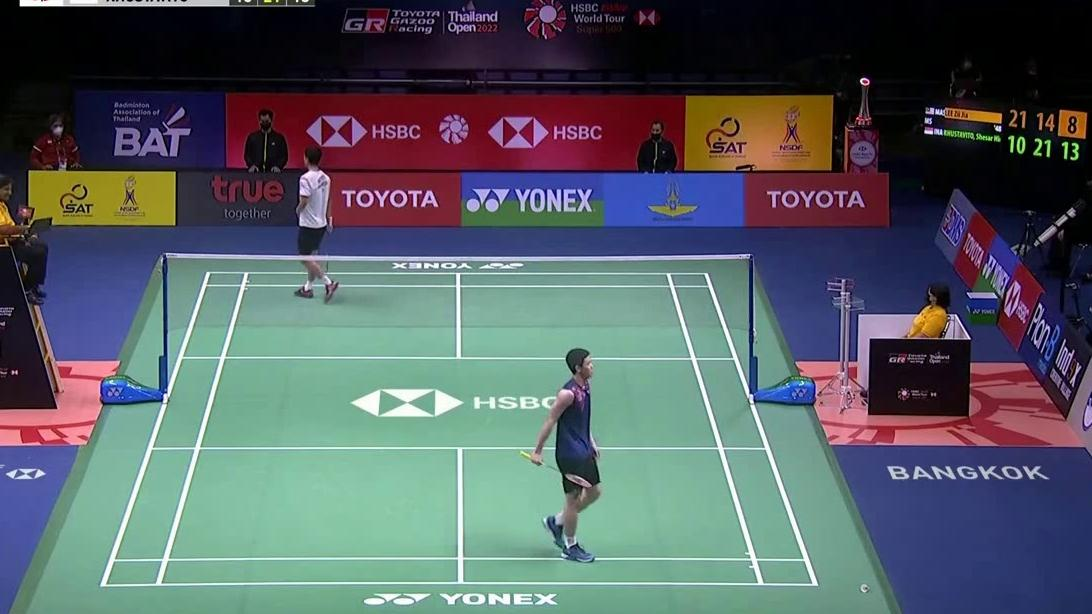racket: (519, 450, 593, 489), (324, 215, 334, 273)
shuttle: (860, 583, 870, 593)
